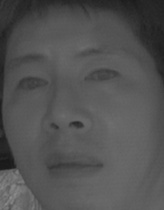eye: (81, 65, 122, 87), (16, 72, 53, 96)
mouth: (45, 149, 104, 183)
